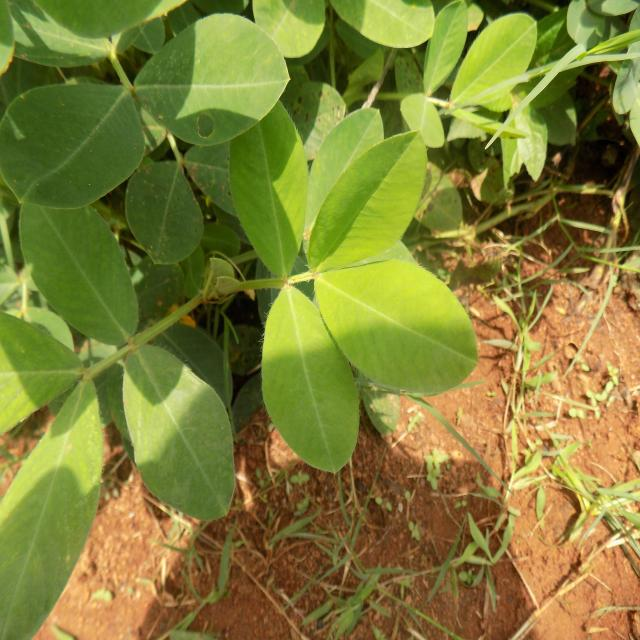Ground nut_healthy: (254, 277, 360, 480), (316, 263, 474, 395), (308, 116, 428, 270)
